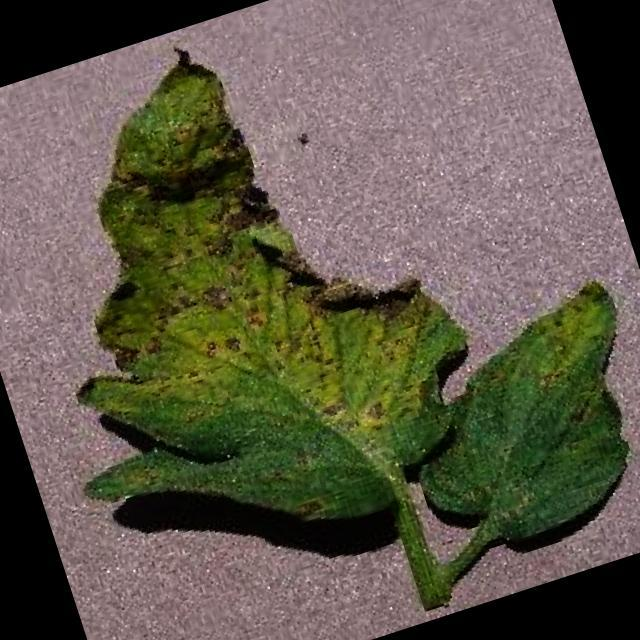Tomato Septoria spot leaf: (0, 0, 509, 599)
